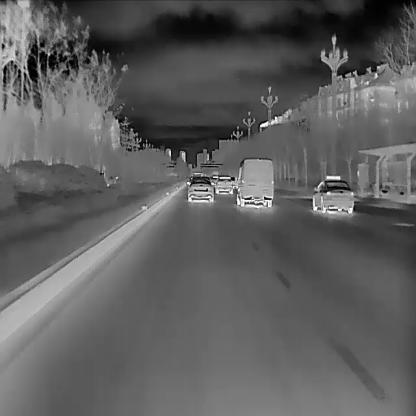car: (235, 157, 273, 207), (312, 176, 354, 212), (186, 178, 214, 202), (216, 175, 232, 194)
